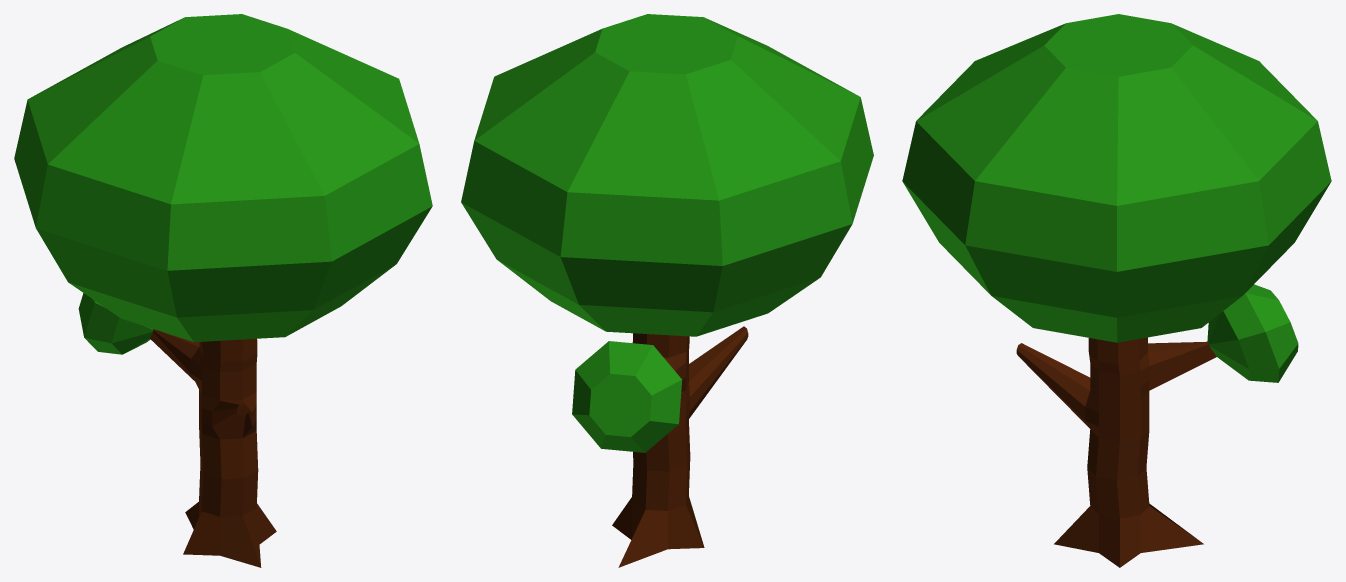
The model's file is thick_foliage_tree_001.FBX.
The picture shows the model from 3 angles, left to right: view 1: azimuth 30°, elevation 25°; view 2: azimuth 150°, elevation 25°; view 3: azimuth 270°, elevation 25°; orthographic projection.
Visible parts, largest first — view 1: foliagetree_001; view 2: foliagetree_001; view 3: foliagetree_001.
Part boxes in pixels (x1=…): foliagetree_001: x1=14, y1=14, x2=432, y2=567; foliagetree_001: x1=461, y1=14, x2=873, y2=567; foliagetree_001: x1=902, y1=14, x2=1331, y2=567.
Size of the model in its own units: 12.32 by 15.7 by 12.32.
